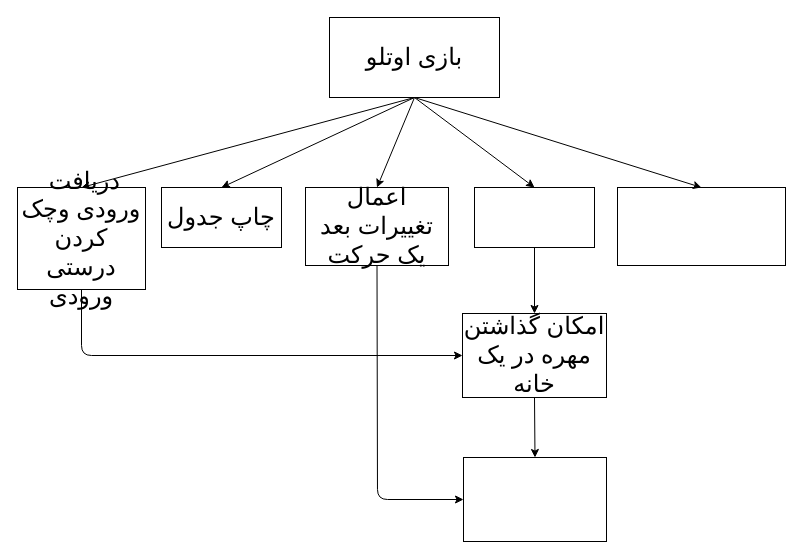
Some shapes in this 803 by 560 pixel diagram are drawn without their labels. Here are the shapes that lost their labels. From the top down, the centre of each, then its label:
At point 534,217: "امکان بازی برای یک نفر".
At point 701,226: "مقدار دهی اولیه ( Initialization)".
At point 534,499: "محاصره کردن حریف در یک جهت".
